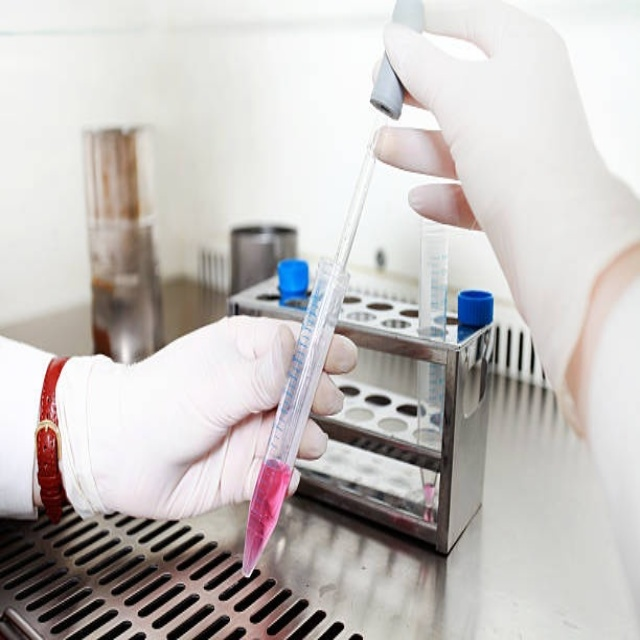Guantes: (367, 5, 630, 425), (54, 309, 359, 549)
